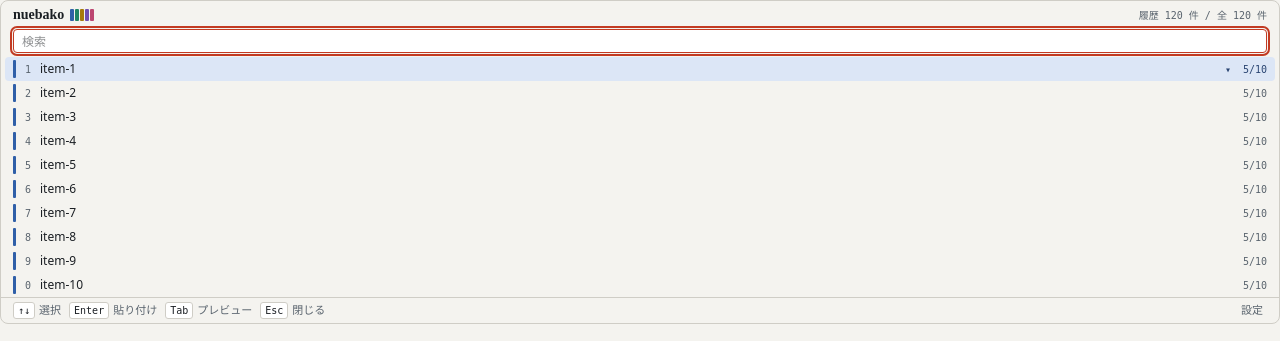
it: HistoryWindow スクロール › 検索語が変わったら offset を 0 に戻し、読み込み中だった続きの応答は捨てる
The image size is (1280, 341).
Type "item-1" into the search field at (640,41), box 13,29 -> 1267,53
(page scrolled)
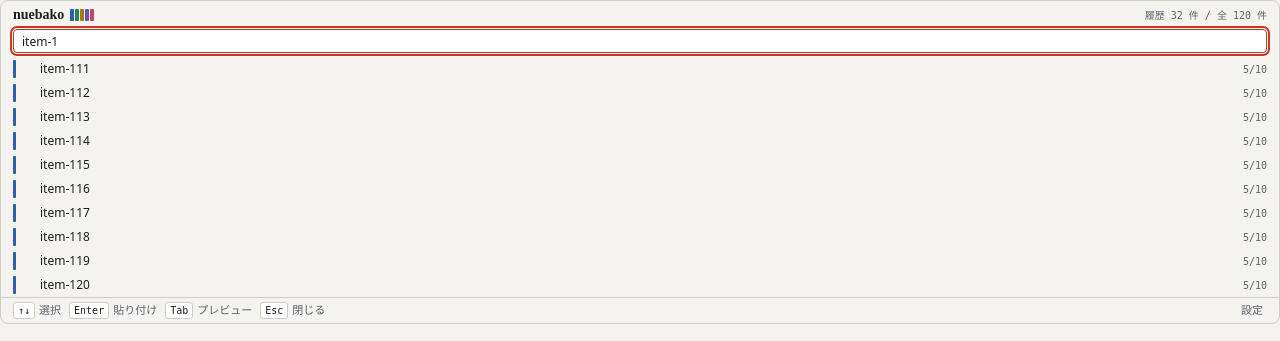
Expected: the option "item-112 5/10" is shown, 5,81 -> 1275,105
Expected: the option "item-113 5/10" is shown, 5,105 -> 1275,129
Expected: the option "item-114 5/10" is shown, 5,129 -> 1275,153
